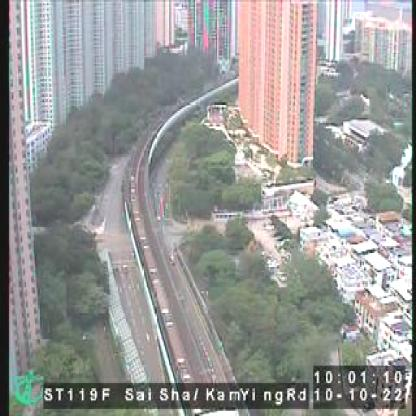Car: (176, 366, 194, 386)
